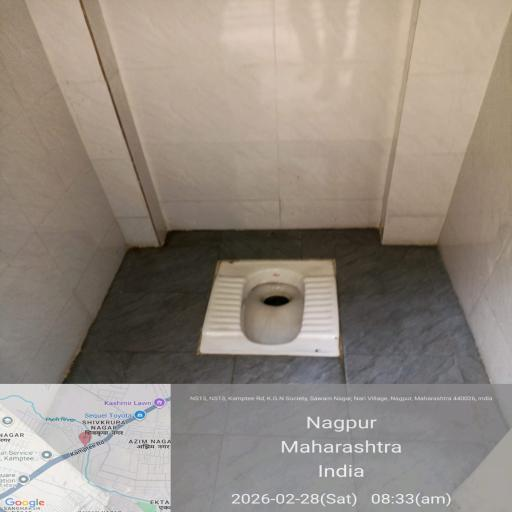clean_floor: (17, 1, 512, 220), (8, 220, 512, 390)
partial_dirty_floor: (115, 191, 461, 240)
partial_dirty_indian: (208, 259, 346, 359)
